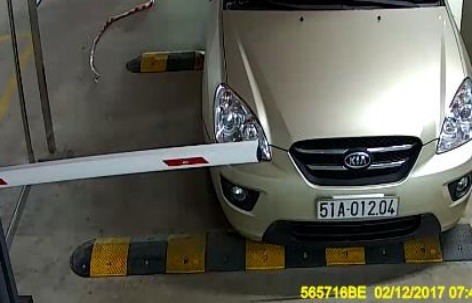plate: (308, 190, 405, 220)
